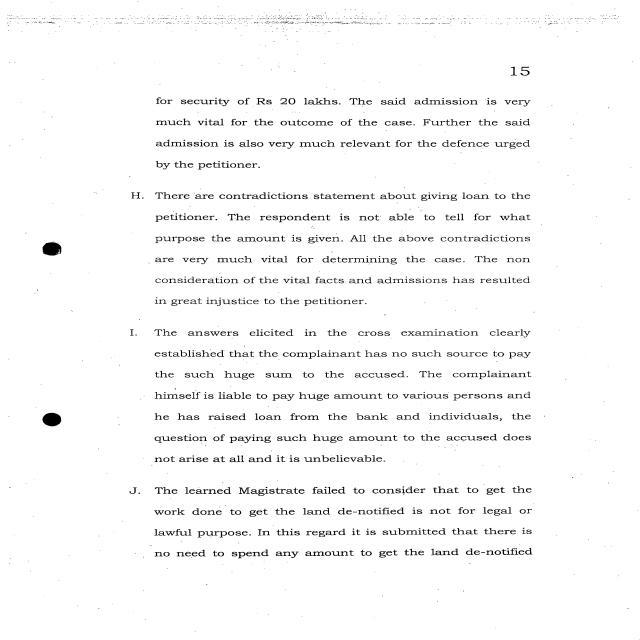page-number: (422, 11, 626, 88)
